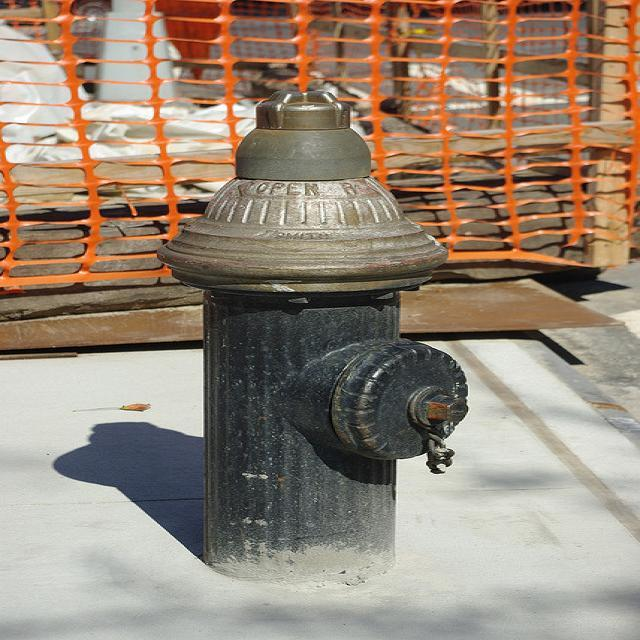fire_hydrant: (151, 89, 467, 593)
